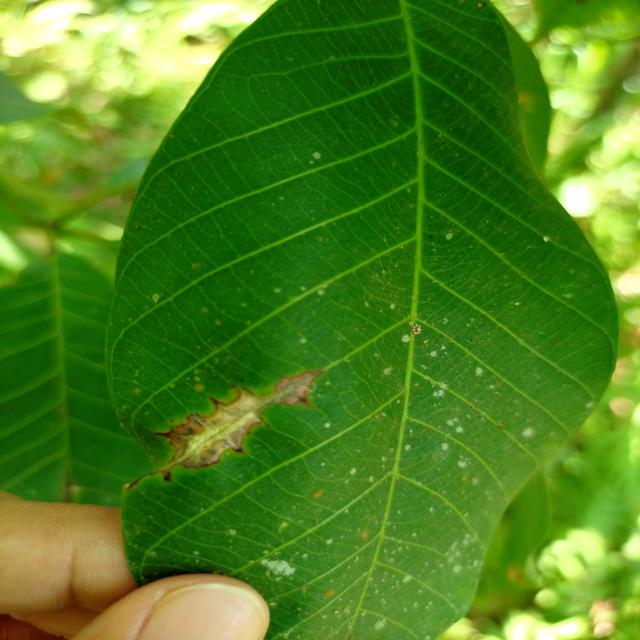Corynespora: (124, 368, 325, 488)
